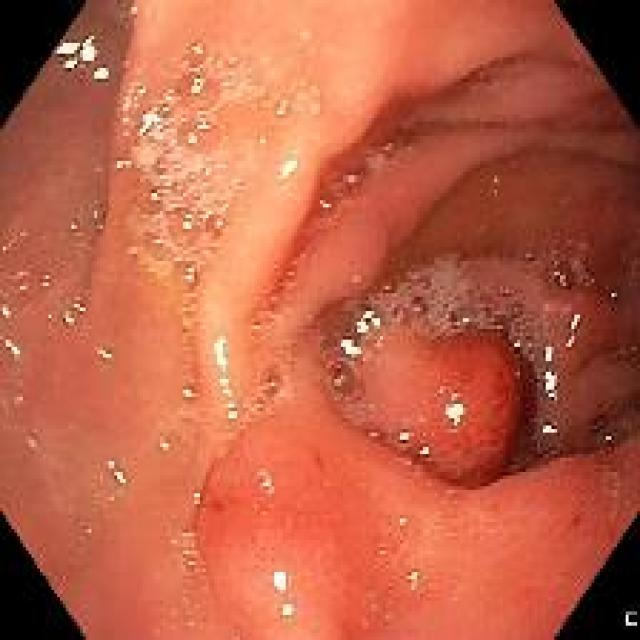bubbles: (361, 260, 600, 378), (148, 407, 213, 539), (492, 294, 550, 376), (178, 297, 206, 397), (170, 71, 226, 110), (177, 113, 221, 159), (369, 131, 417, 170), (333, 164, 371, 207), (589, 407, 624, 449), (327, 357, 360, 400), (392, 296, 432, 328), (131, 175, 160, 216), (239, 394, 270, 432), (170, 255, 199, 294), (311, 185, 338, 226), (551, 259, 580, 297), (181, 39, 213, 72), (378, 274, 431, 293), (358, 411, 387, 445), (170, 208, 196, 245), (257, 364, 282, 400), (515, 446, 555, 468), (248, 311, 275, 342), (177, 556, 209, 582), (610, 337, 638, 361), (19, 422, 42, 450), (144, 230, 164, 262), (12, 269, 33, 296), (268, 94, 291, 118), (288, 332, 306, 361), (8, 386, 27, 413), (471, 70, 495, 91), (206, 210, 224, 237), (253, 131, 271, 155), (223, 47, 241, 68), (169, 176, 184, 199), (521, 249, 537, 265), (153, 154, 164, 173), (227, 627, 244, 639), (186, 166, 196, 186), (199, 164, 211, 180), (170, 159, 181, 173), (190, 188, 201, 201)
specularity: (211, 333, 239, 424), (82, 35, 111, 85), (266, 282, 293, 324), (353, 307, 383, 340), (276, 147, 302, 183), (103, 455, 128, 490), (565, 309, 584, 351), (139, 105, 163, 138), (444, 392, 466, 427), (541, 367, 560, 406), (57, 37, 77, 74), (270, 566, 289, 596), (342, 333, 361, 361), (94, 342, 113, 366), (403, 565, 423, 587), (37, 271, 55, 294), (4, 334, 18, 360), (279, 598, 297, 618), (283, 265, 301, 285), (542, 343, 556, 367), (113, 156, 132, 173), (261, 477, 277, 496), (542, 422, 558, 439), (70, 298, 88, 313), (396, 429, 410, 448), (181, 384, 195, 403), (457, 315, 474, 330), (189, 489, 204, 506), (62, 311, 74, 331), (137, 80, 149, 100), (398, 512, 409, 533), (417, 444, 430, 461), (0, 301, 11, 320), (607, 284, 618, 302), (379, 546, 391, 559), (510, 338, 522, 348), (559, 272, 567, 286), (17, 284, 28, 293), (436, 385, 444, 397), (68, 221, 78, 230), (92, 208, 100, 219)
